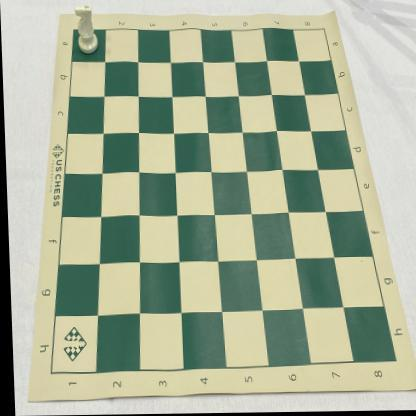white-knight: (73, 2, 100, 55)
